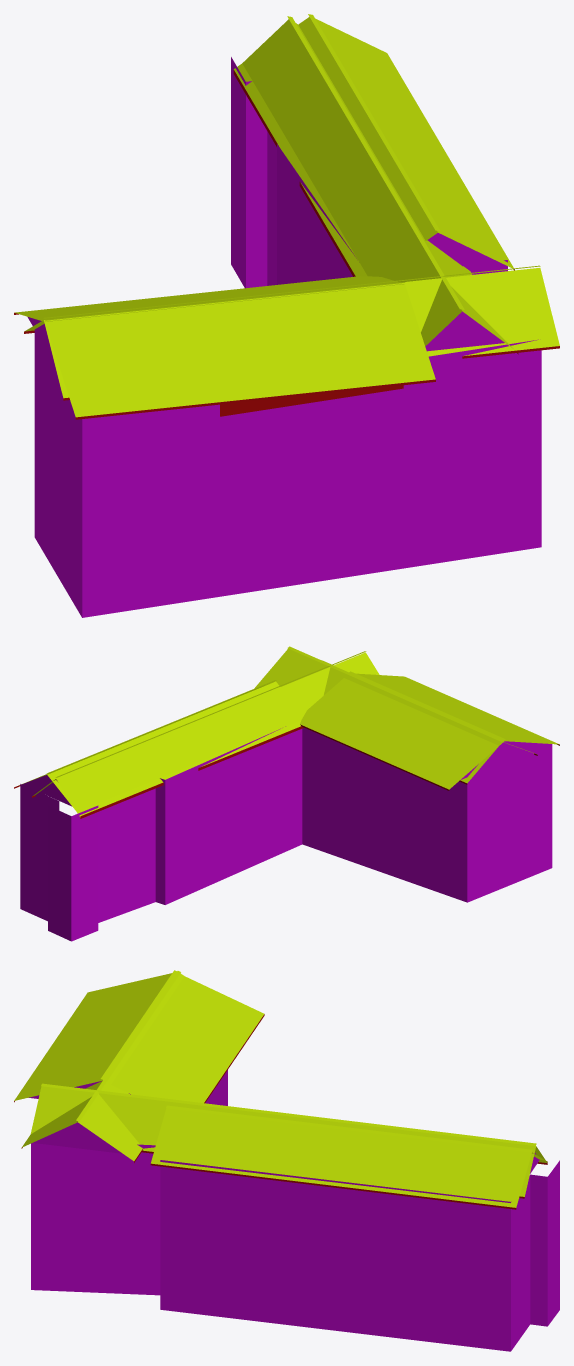
The model's file is ssv_90.glb.
The picture shows the model from 3 angles, top to bottom: view 1: azimuth 30°, elevation 25°; view 2: azimuth 150°, elevation 25°; view 3: azimuth 270°, elevation 25°; orthographic projection. The views are drawn at different scales.
Visible parts, largest first — view 1: ssv_90; view 2: ssv_90; view 3: ssv_90.
Part boxes in pixels (bbox=[...]): ssv_90: bbox=[14, 14, 559, 617]; ssv_90: bbox=[14, 646, 559, 941]; ssv_90: bbox=[14, 970, 559, 1351].
Size of the model in its own units: 31.84 by 12.51 by 34.32.
